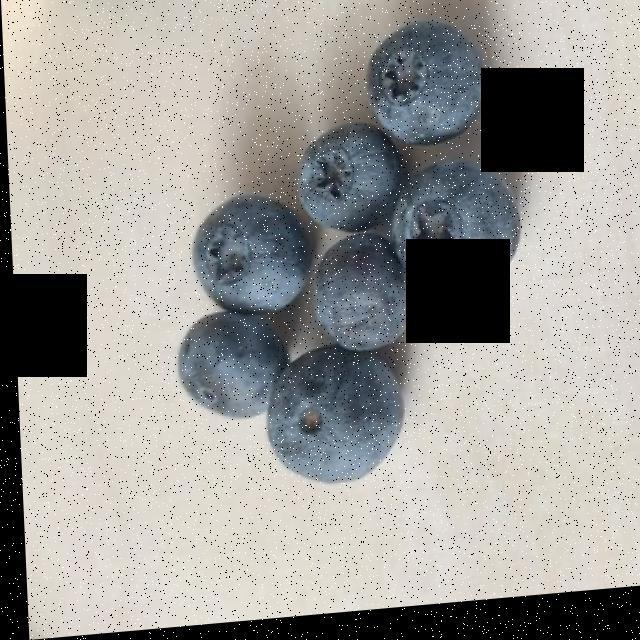blueberries: (178, 37, 508, 468)
